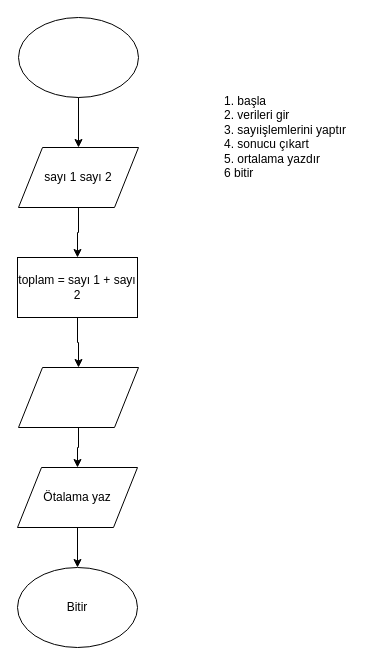
Some shapes in this 380 by 665 pixel diagram are drawn without their labels. The centre of each missing label's shape, as x and y in pixels:
"başla" goes at point 78,57.
"sonuç/2" goes at point 78,397.
